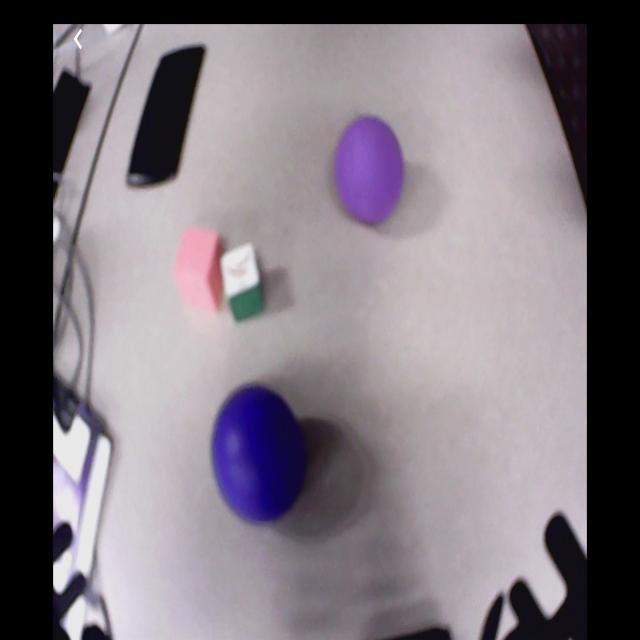ball: (212, 384, 304, 526), (336, 117, 405, 226)
